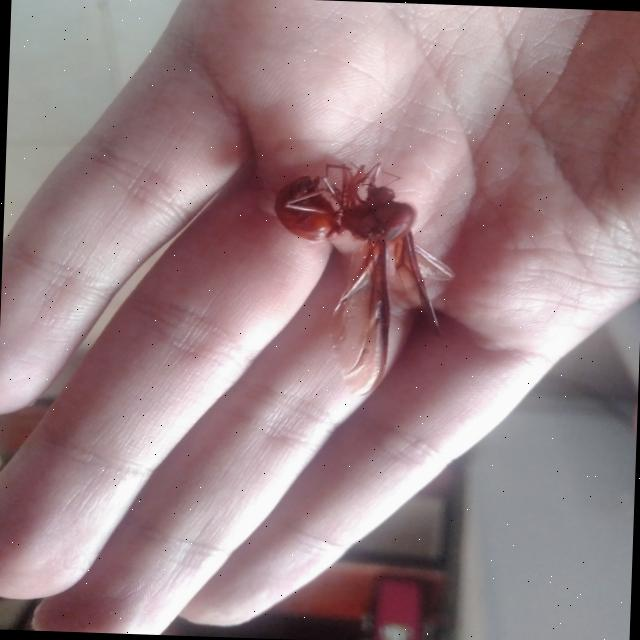Dead-Male-Alate: (267, 158, 459, 399)
